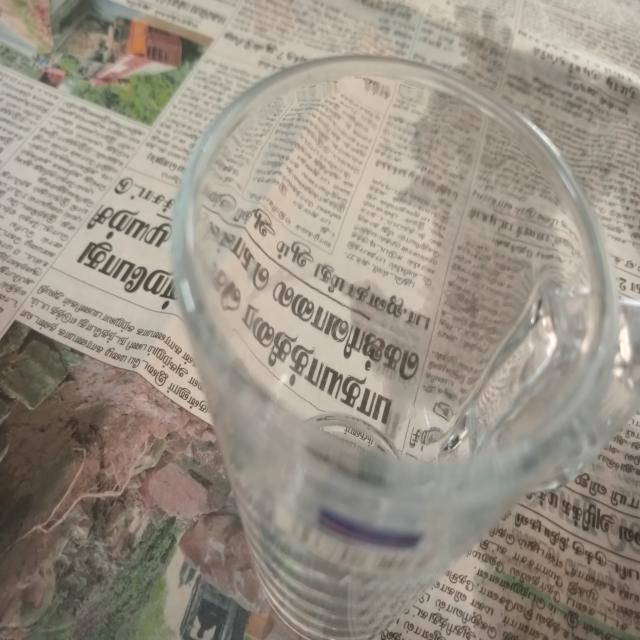glass-VX4N: (172, 53, 640, 640)
